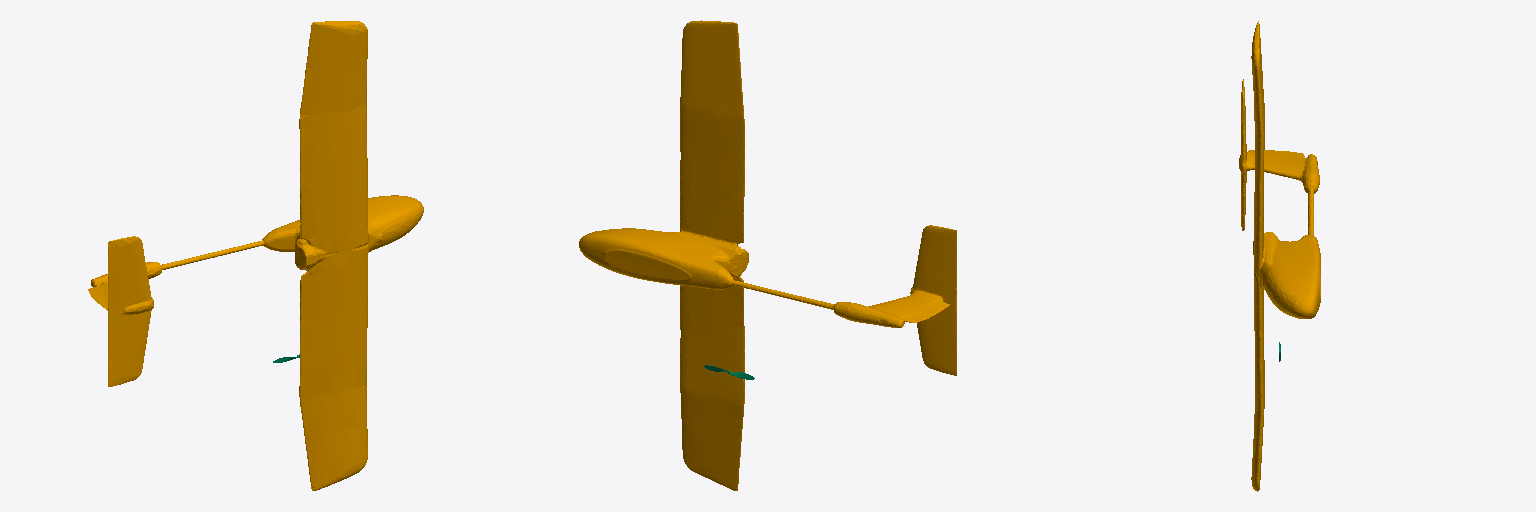
The robot description file, URDF, robot "aslfixedwing":
<?xml version="1.0"?>
<robot name="aslfixedwing">
  <link name="base_link">
    <inertial><origin xyz="0 0 0" rpy="0 0 0"/><mass value="1.5"/><inertia ixx="0.197563" ixy="0" ixz="0" iyy="0.145893" iyz="0" izz="0.1477"/></inertial>
    <collision name="base_link_collision"><origin xyz="0 0 -0.1" rpy="0 0 0"/><geometry><box size="0.47 0.47 0.11"/></geometry></collision>
    <visual name="base_link_visual"><origin xyz="-0.2 0 0" rpy="0 0 3.1415"/><geometry><mesh filename="meshes/aslfixedwing.obj" scale="1 1 1"/></geometry></visual>
  </link>
  <link name="aslfixedwing/imu_link">
    <inertial><origin xyz="0 0 0" rpy="0 0 0"/><mass value="0.015"/><inertia ixx="1e-05" ixy="0" ixz="0" iyy="1e-05" iyz="0" izz="1e-05"/></inertial>
  </link>
  <joint name="aslfixedwing/imu_joint" type="revolute">
    <origin xyz="0 0 0" rpy="0 0 0"/>
    <parent link="base_link"/>
    <child link="aslfixedwing/imu_link"/>
    <axis xyz="1 0 0"/>
    <limit lower="0" upper="0" effort="1000" velocity="100"/>
  </joint>
  <link name="rotor_puller">
    <inertial><origin xyz="0 0 0" rpy="0 0 0"/><mass value="0.005"/><inertia ixx="9.75e-07" ixy="0" ixz="0" iyy="0.000166704" iyz="0" izz="0.000167604"/></inertial>
    <collision name="rotor_puller_collision"><origin xyz="0 0 0" rpy="0 0 0"/><geometry><cylinder radius="0.1" length="0.005"/></geometry></collision>
    <visual name="rotor_puller_visual"><origin xyz="-0.06 0 -0.39" rpy="0 0 0"/><geometry><mesh filename="meshes/propeller_cw.obj" scale="0.75 0.75 0.75"/></geometry></visual>
  </link>
  <joint name="rotor_puller_joint" type="revolute">
    <origin xyz="0 0 0" rpy="0 0 0"/>
    <parent link="base_link"/>
    <child link="rotor_puller"/>
    <axis xyz="1 0 0"/>
    <limit lower="-1e+16" upper="1e+16" effort="1000" velocity="100"/>
  </joint>
  <link name="left_elevon">
    <inertial><origin xyz="0 0.3 0" rpy="0 0 0"/><mass value="1e-08"/><inertia ixx="1e-06" ixy="0" ixz="0" iyy="1e-06" iyz="0" izz="1e-06"/></inertial>
  </link>
  <link name="right_elevon">
    <inertial><origin xyz="0 -0.3 0" rpy="0 0 0"/><mass value="1e-08"/><inertia ixx="1e-06" ixy="0" ixz="0" iyy="1e-06" iyz="0" izz="1e-06"/></inertial>
  </link>
  <link name="elevator">
    <inertial><origin xyz="-0.5 0 0" rpy="0 0 0"/><mass value="1e-08"/><inertia ixx="1e-06" ixy="0" ixz="0" iyy="1e-06" iyz="0" izz="1e-06"/></inertial>
  </link>
  <link name="rudder">
    <inertial><origin xyz="-0.5 0 0.05" rpy="0 0 0"/><mass value="1e-08"/><inertia ixx="1e-06" ixy="0" ixz="0" iyy="1e-06" iyz="0" izz="1e-06"/></inertial>
  </link>
  <joint name="left_elevon_joint" type="revolute">
    <origin xyz="0 0.3 0" rpy="0 0 0"/>
    <parent link="base_link"/>
    <child link="left_elevon"/>
    <axis xyz="0 1 0"/>
    <limit lower="-0.53" upper="0.53" effort="1000" velocity="100"/>
  </joint>
  <joint name="right_elevon_joint" type="revolute">
    <origin xyz="0 -0.3 0" rpy="0 0 0"/>
    <parent link="base_link"/>
    <child link="right_elevon"/>
    <axis xyz="0 1 0"/>
    <limit lower="-0.53" upper="0.53" effort="1000" velocity="100"/>
  </joint>
  <joint name="elevator_joint" type="revolute">
    <origin xyz="-0.5 0 0" rpy="0 0 0"/>
    <parent link="base_link"/>
    <child link="elevator"/>
    <axis xyz="0 1 0"/>
    <limit lower="-0.53" upper="0.53" effort="1000" velocity="100"/>
  </joint>
  <joint name="rudder_joint" type="revolute">
    <origin xyz="-0.5 0 0.05" rpy="0 0 0"/>
    <parent link="base_link"/>
    <child link="rudder"/>
    <axis xyz="0 0 1"/>
    <limit lower="-0.53" upper="0.53" effort="1000" velocity="100"/>
  </joint>
</robot>

--- Render facts (derived) ---
The picture shows the robot from 3 angles, left to right: view 1: azimuth 30°, elevation 25°; view 2: azimuth 150°, elevation 25°; view 3: azimuth 270°, elevation 25°; orthographic projection.
Model aslfixedwing with 7 links and 6 joints (6 revolute), rooted at base_link, posed every joint at zero.
Links seen in each view (by area): view 1: base_link; view 2: base_link; view 3: base_link.
Boxes of the visible links, x1,y1,x2,y2 form: base_link: (88,21,423,490); base_link: (579,20,956,490); base_link: (1239,21,1320,491).
Size in the robot's own frame: 1.33 by 0.2808 by 1.72 metres.
Meshes: 2 distinct files referenced, 2 mesh visuals loaded (2 OBJ).
